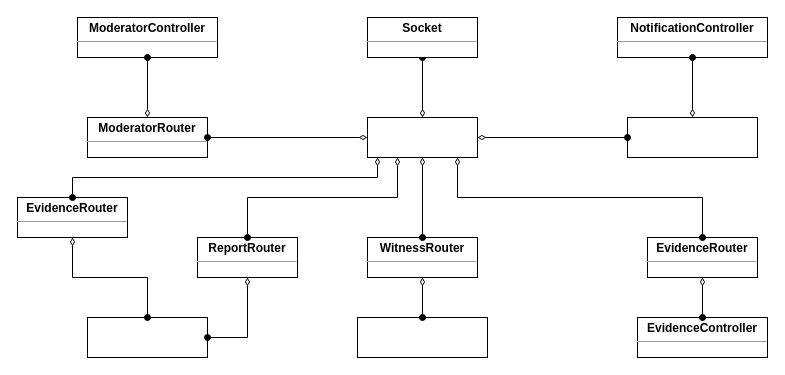
This 785x375 diagram has some shape labels left out. The box of each missing label's shape, as (x1, y1, x2, y2) in pixels:
ExpressServer: (366, 116, 478, 158)
NotificationRouter: (626, 116, 758, 158)
ReportController: (86, 316, 208, 358)
WitnessController: (356, 316, 488, 358)
